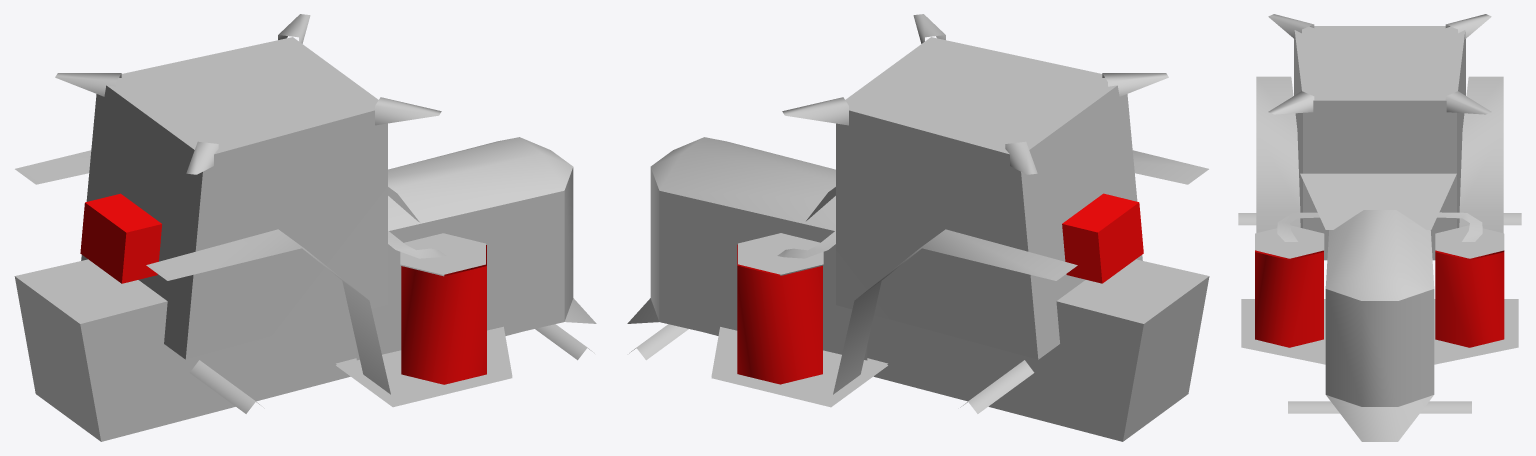
3 renders of one model, left to right at view 1: azimuth 30°, elevation 25°; view 2: azimuth 150°, elevation 25°; view 3: azimuth 270°, elevation 25°, orthographic. The views are drawn at different scales.
Parts seen in each view (by area): view 1: model1, model2; view 2: model1, model2; view 3: model1, model2.
Part boxes in pixels (x1,y1,x2,y2): model1: (14, 14, 596, 441); model2: (80, 193, 486, 384); model1: (627, 14, 1209, 441); model2: (737, 193, 1143, 384); model1: (1238, 14, 1521, 441); model2: (1255, 250, 1504, 347).
Bounding box in the file's own units: 25.89 × 14.18 × 14.61.
